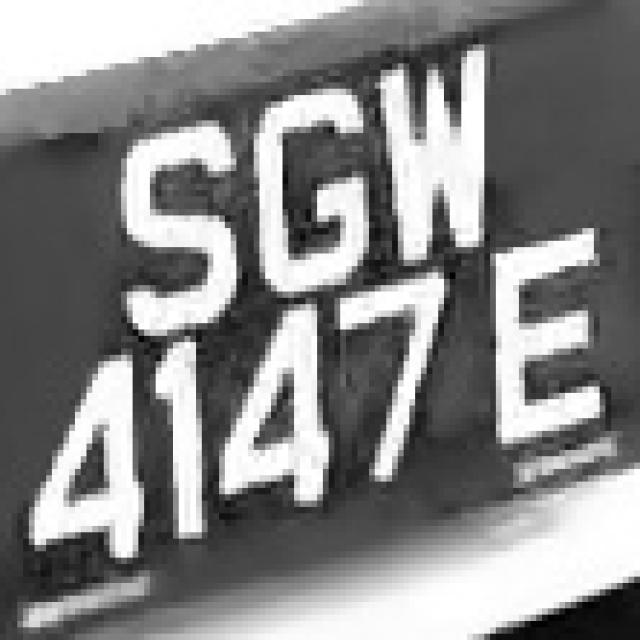1: (138, 323, 225, 570)
4: (12, 348, 173, 590), (225, 310, 340, 552)
7: (317, 254, 456, 514)
E: (473, 222, 617, 469)
G: (236, 64, 364, 310)
S: (92, 82, 242, 355)
W: (334, 19, 502, 279)
